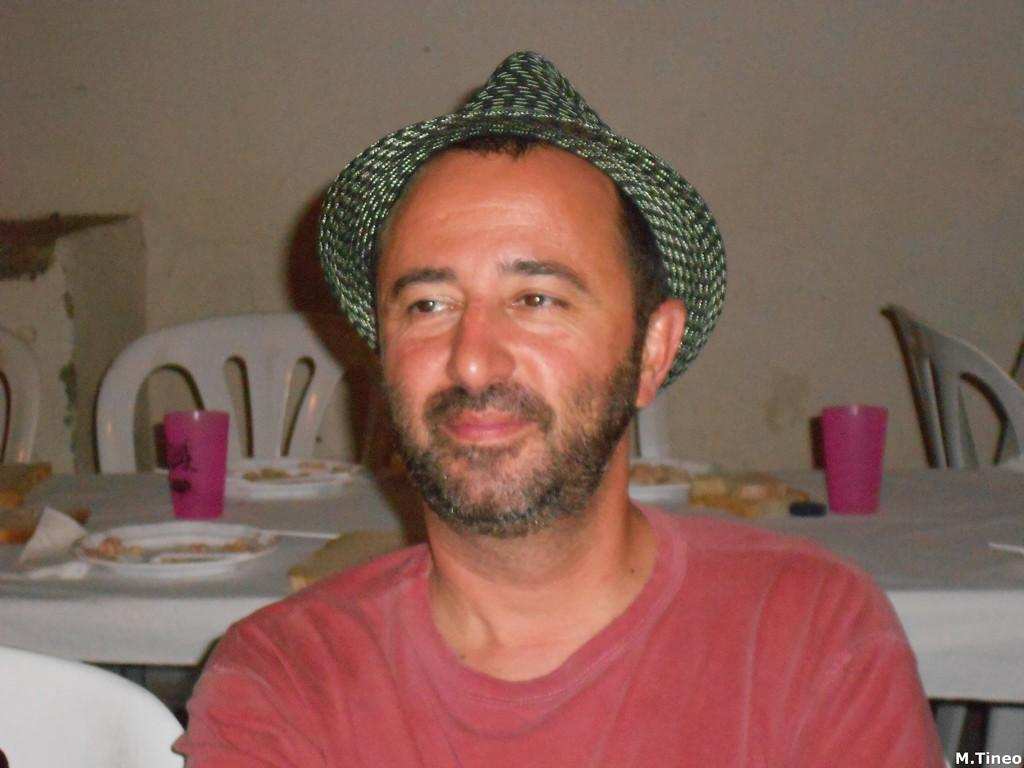Hat: (317, 49, 725, 397)
